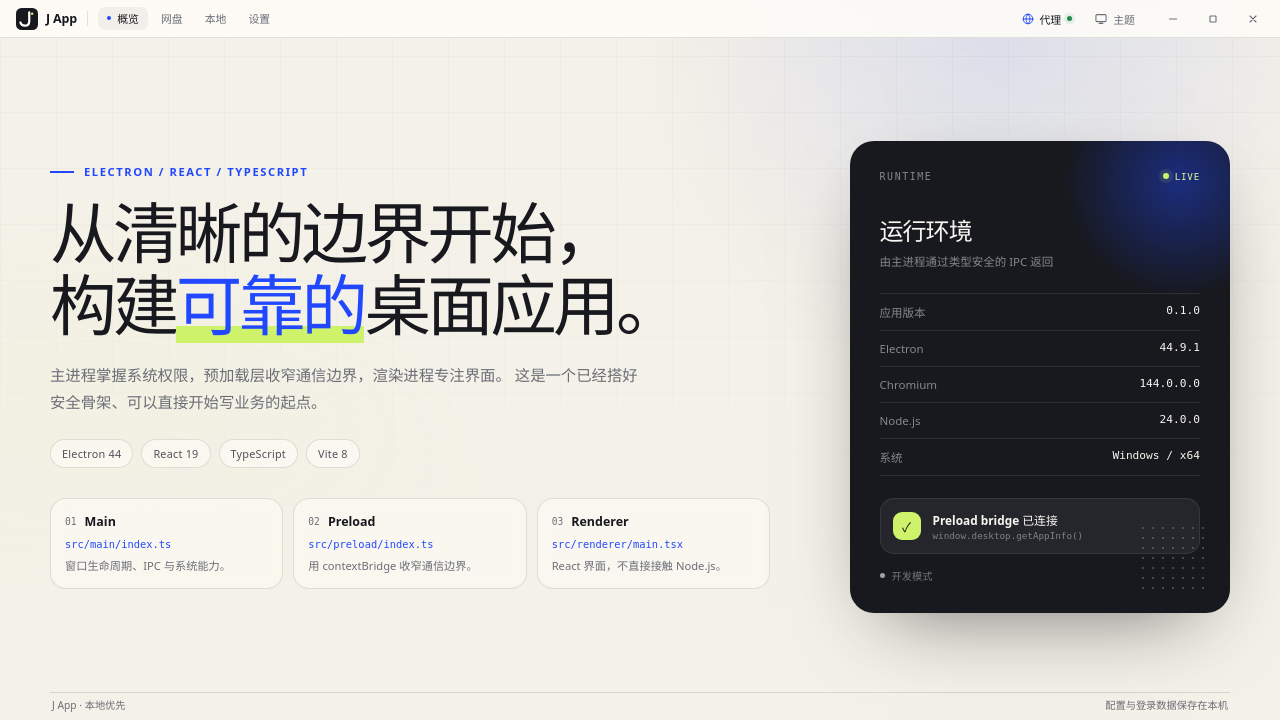
App › keeps the table header visible while a 115 folder is loading
Expected: the button with aria-label "网络代理，当前已开启" is shown, [1012, 6, 1081, 32]
What coordinates should you click on to do the following:
click the button "网盘"
I would click on:
 (172, 18)
Its box is [152, 7, 192, 30].
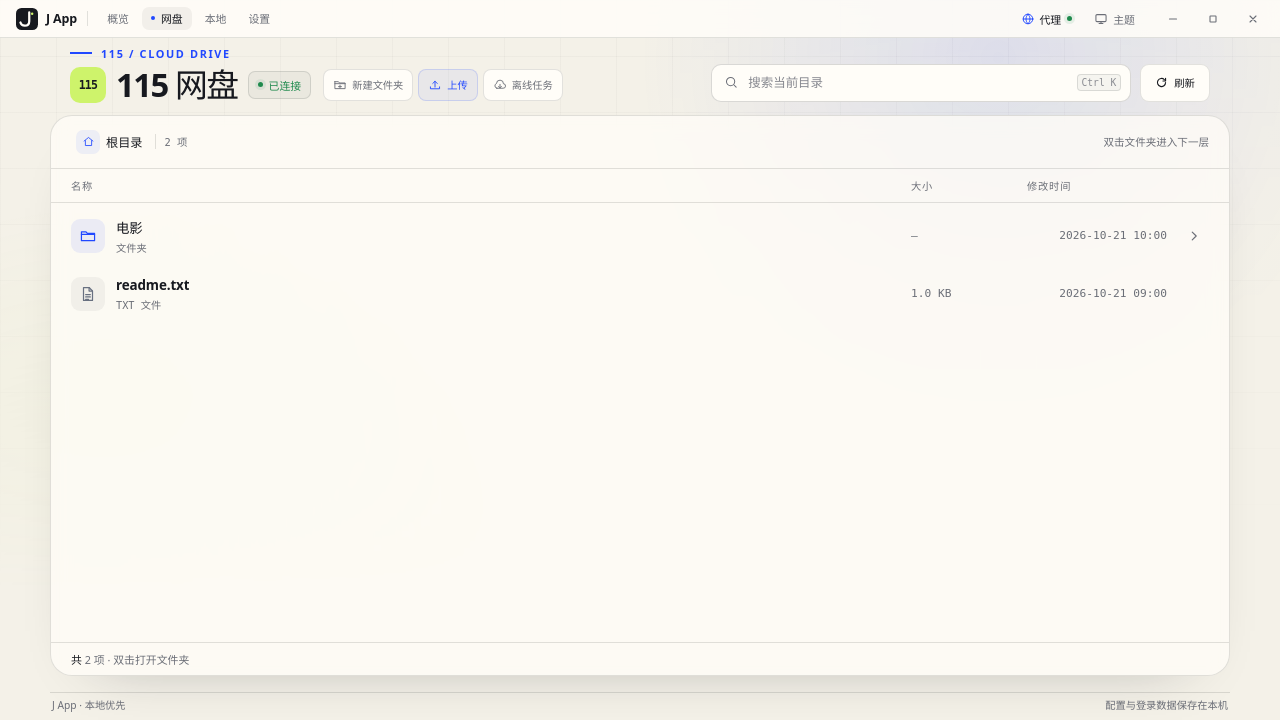
Now the text "大小" is shown, box [911, 180, 933, 192]
Now the text "修改时间" is shown, box [1027, 180, 1071, 192]
Now the text "电影" is shown, box [116, 217, 147, 237]
